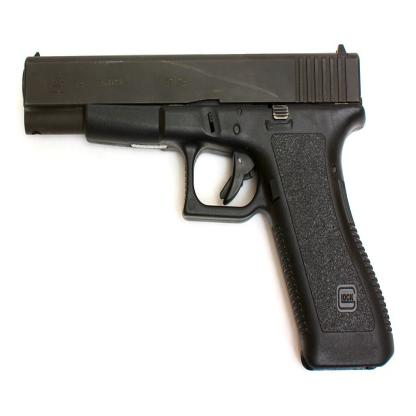handgun: (23, 49, 394, 370)
